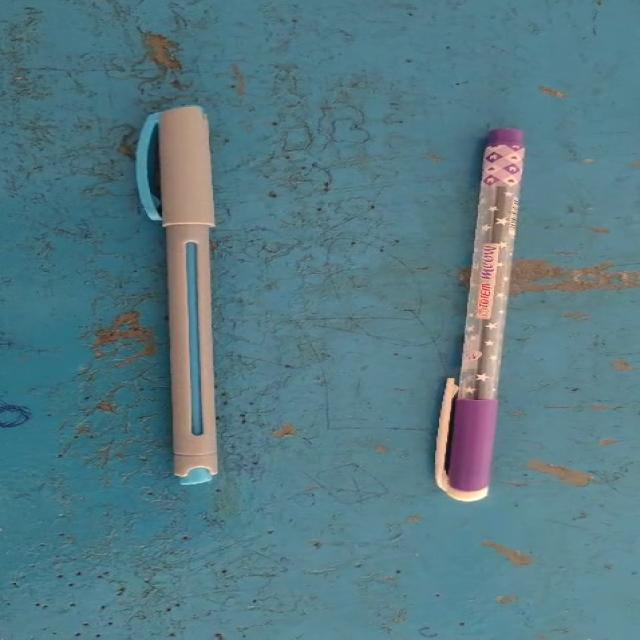pen: (39, 46, 318, 562), (403, 102, 571, 548)
